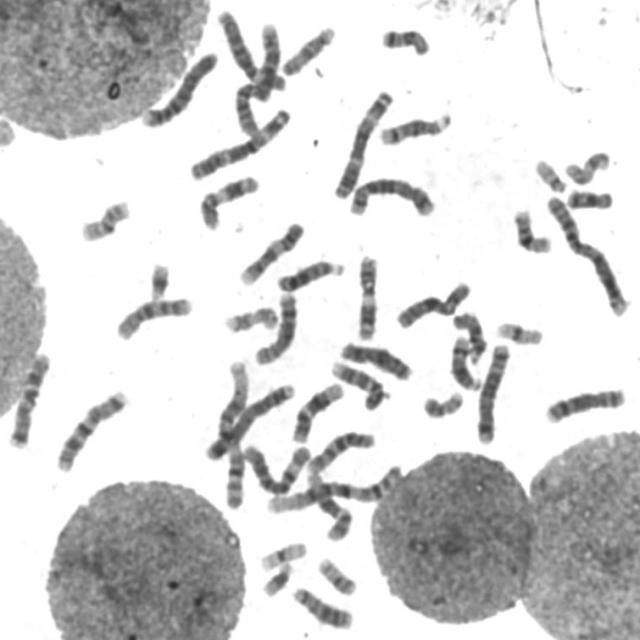A1: (261, 458, 405, 516), (214, 354, 252, 511)
A2: (540, 189, 630, 318), (229, 17, 284, 139)
A3: (183, 102, 293, 181), (328, 83, 396, 200)
B4: (199, 376, 298, 461), (136, 44, 220, 129)
B5: (343, 170, 438, 218), (471, 338, 513, 446)
C10: (109, 289, 195, 342), (301, 424, 377, 476)
C11: (193, 169, 261, 231), (350, 248, 381, 342)
C12: (302, 464, 355, 543), (286, 376, 346, 444)
C6: (212, 2, 288, 94), (237, 437, 313, 497)
C7: (50, 384, 131, 474), (2, 345, 52, 450)
C8: (249, 286, 300, 366), (540, 380, 629, 425)
C9: (235, 216, 306, 287), (326, 354, 388, 412)
D13: (287, 580, 355, 631), (271, 253, 347, 293)
D14: (374, 106, 454, 148), (444, 329, 484, 392)
D15: (276, 18, 338, 78), (448, 304, 489, 366)
E16: (75, 192, 132, 244), (508, 202, 554, 255)
E17: (559, 144, 613, 186), (219, 299, 281, 335)
E18: (376, 21, 432, 57), (562, 183, 615, 212)
F19: (254, 536, 310, 572), (491, 314, 546, 347)
F20: (312, 552, 359, 597), (417, 384, 466, 419)
G21: (256, 556, 295, 599), (142, 256, 173, 303)
G22: (529, 153, 568, 195), (0, 115, 20, 154)
X: (390, 274, 474, 330), (336, 335, 414, 383)
